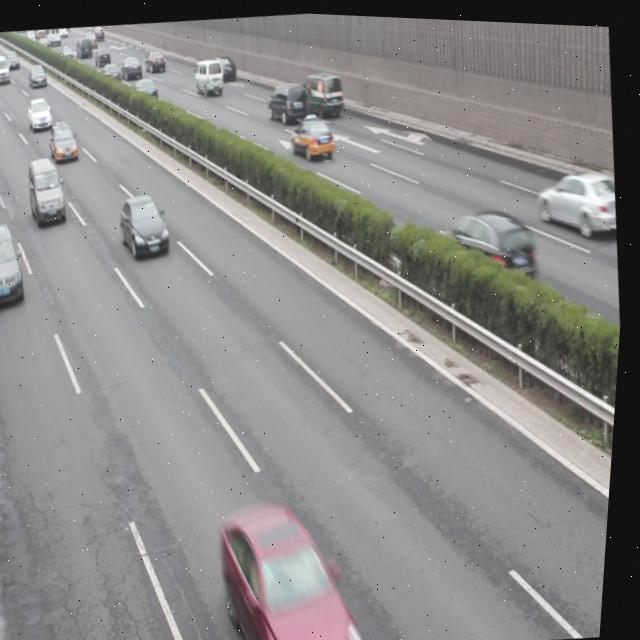car: (218, 492, 370, 640), (438, 198, 543, 286), (534, 159, 623, 238), (118, 190, 176, 260), (0, 220, 32, 310), (287, 109, 337, 156), (49, 117, 83, 164), (27, 96, 56, 130), (133, 74, 160, 101), (213, 53, 238, 79), (144, 46, 168, 72), (120, 54, 143, 79), (101, 60, 123, 82), (28, 63, 49, 86)
truck: (25, 153, 73, 226), (301, 67, 347, 116), (265, 76, 309, 124), (192, 55, 225, 95)
